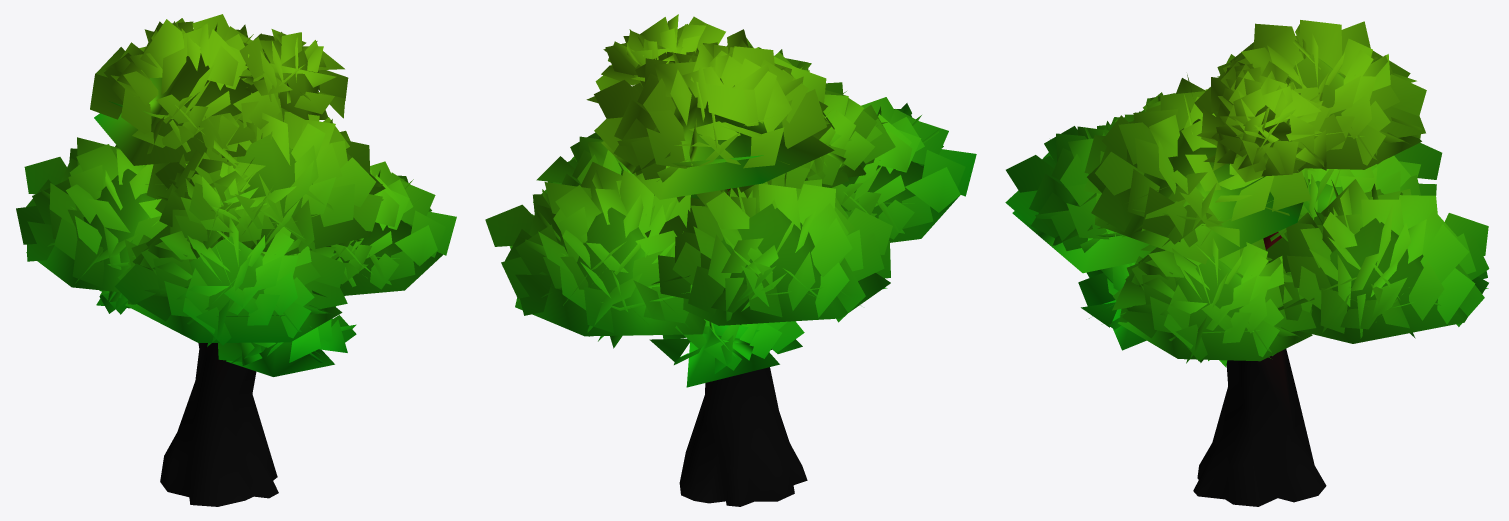
Rendered from tree_big_lod_1.glb.
The picture shows the model from 3 angles, left to right: view 1: azimuth 30°, elevation 25°; view 2: azimuth 150°, elevation 25°; view 3: azimuth 270°, elevation 25°; orthographic projection. The views are drawn at different scales.
Visible parts, largest first — view 1: tree_1_LOD1; view 2: tree_1_LOD1; view 3: tree_1_LOD1.
Part boxes in pixels (<box>): tree_1_LOD1: <box>16,14,456,506</box>; tree_1_LOD1: <box>485,14,976,506</box>; tree_1_LOD1: <box>1005,20,1489,506</box>.
Bounding box in the file's own units: 13.8 × 16.13 × 15.62.
